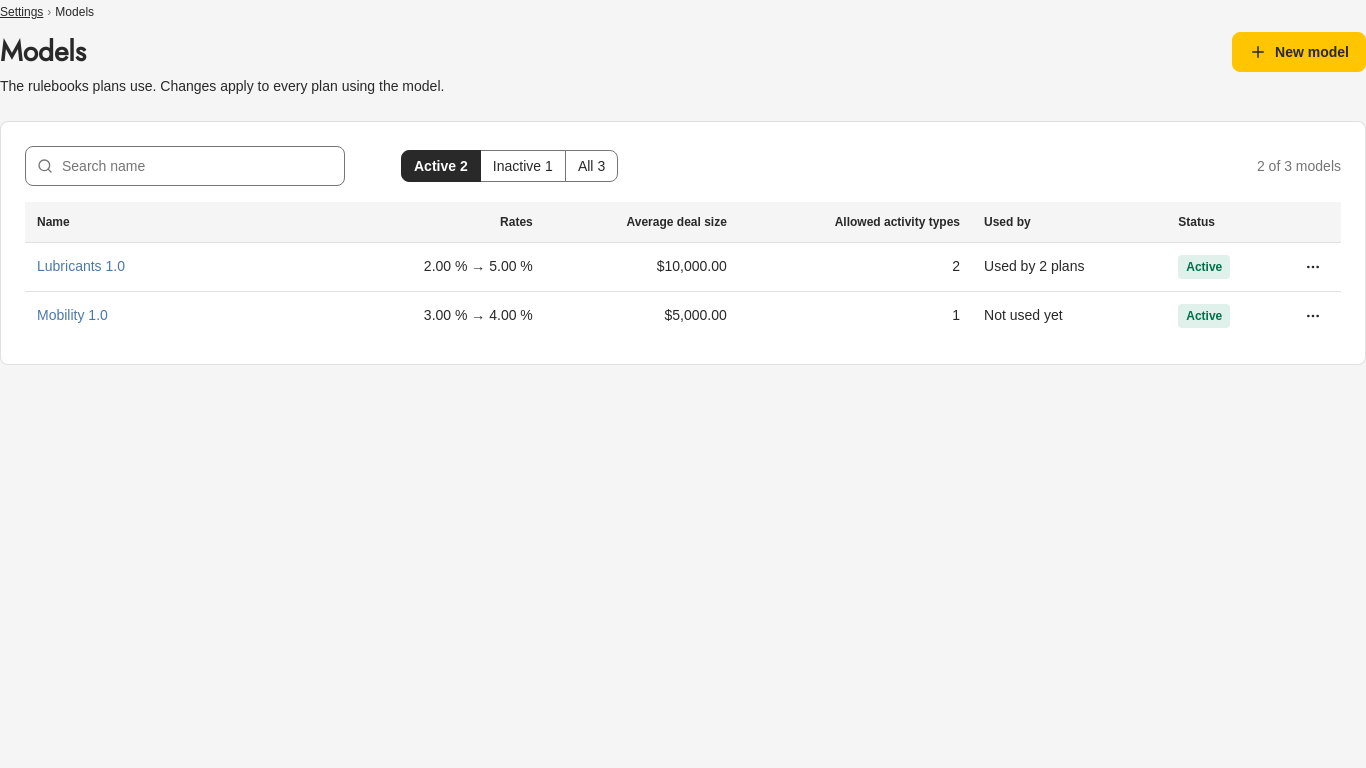
Test: ModelsPage: status and delete (US1 scenario 7, FR-004) › moves an unused model to the recycle bin and offers Undo
Check: the table is shown, box [25,202,1341,340]
Click the button named "Actions for Mobility 1.0".
click(1313, 316)  # box [1297,300,1329,332]
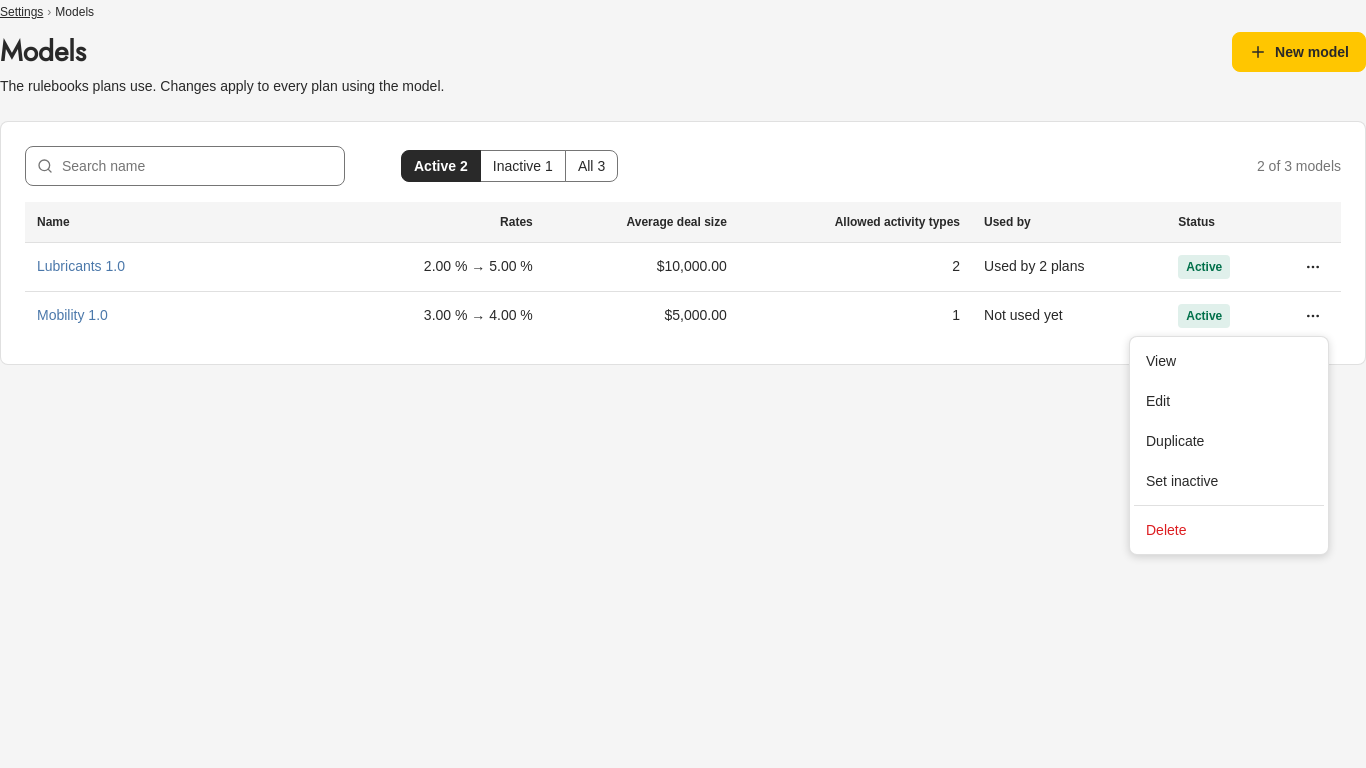
Click the menu item "Delete".
click(1166, 530)  # box [1146,522,1186,538]
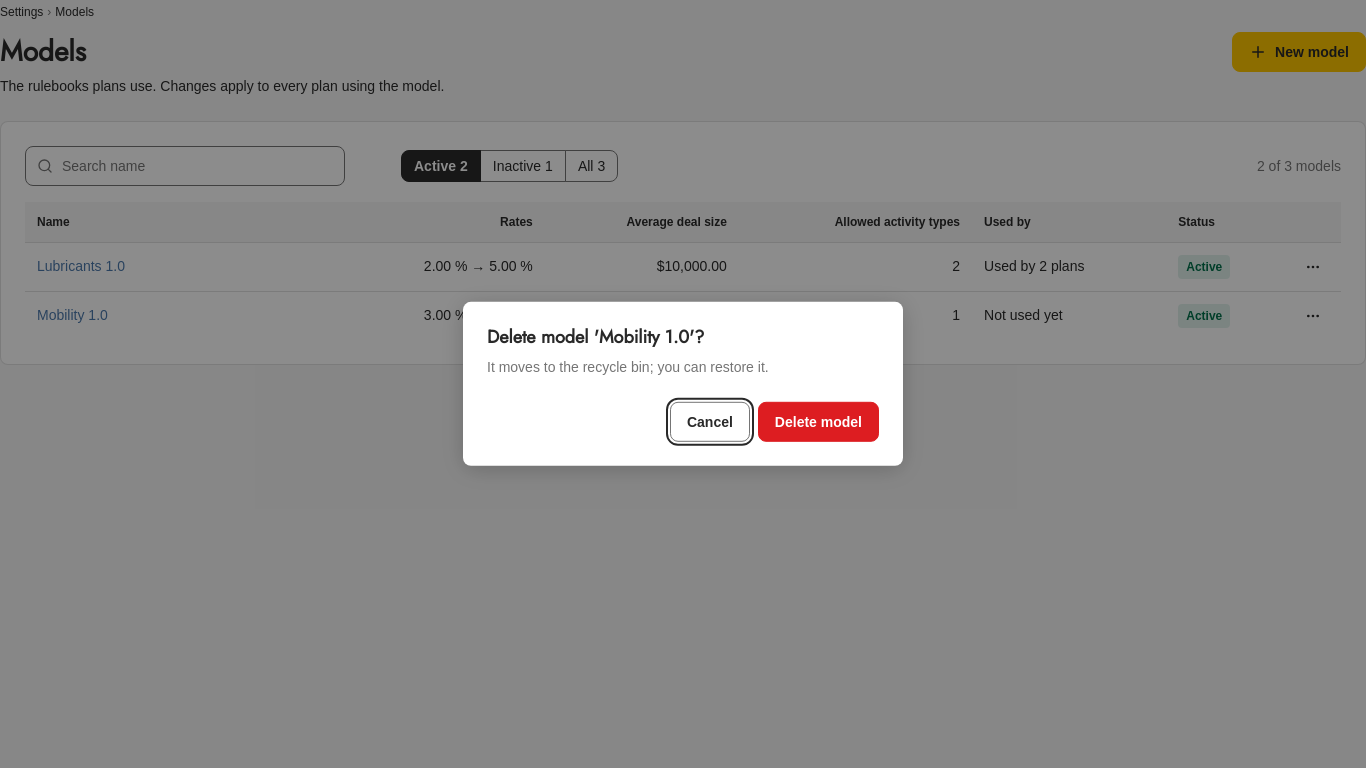
Check: the dialog "Delete model 'Mobility 1.0'?" shows "It moves to the recycle bin; you can restore it.", box [487,359,769,375]
Click the button "Delete model".
click(818, 422)  # box [758,402,879,442]
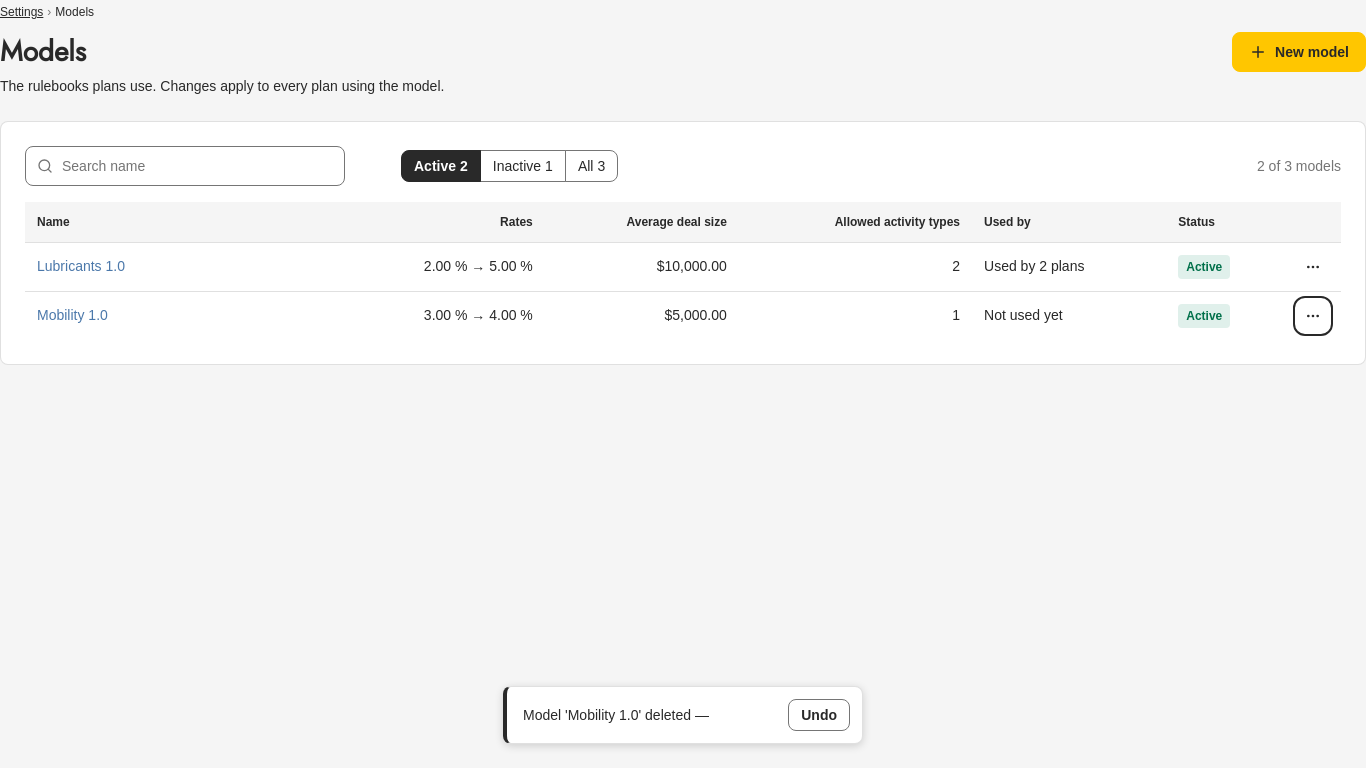
Check: the button "Undo" is shown, box [788,699,850,731]
Check: the dialog is gone
